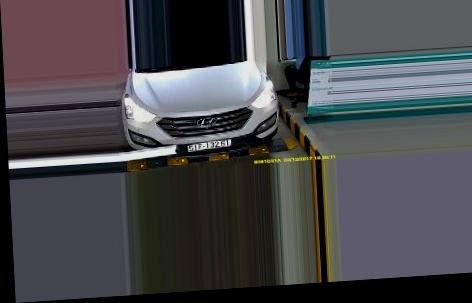License_Plate: (188, 139, 235, 152)
